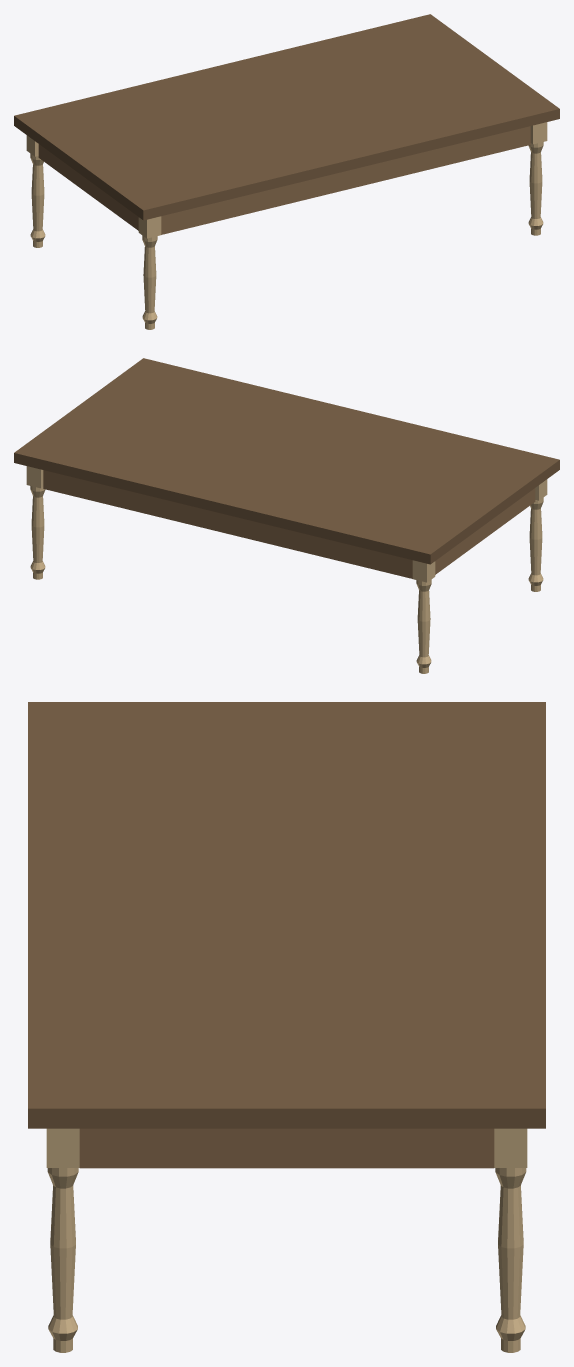
File: BIB-COF-long.glb
3 views of the same model, one above another, from view 1: azimuth 30°, elevation 25°; view 2: azimuth 150°, elevation 25°; view 3: azimuth 270°, elevation 25° (orthographic). The views are drawn at different scales.
Visible parts, largest first — view 1: top:pbr, apron-f:pbr, leg-fl:pbr, apron-l:pbr, leg-fr:pbr, leg-bl:pbr; view 2: top:pbr, apron-b:pbr, leg-bl:pbr, apron-l:pbr, leg-br:pbr, leg-fl:pbr; view 3: top:pbr, apron-r:pbr, leg-fr:pbr, leg-br:pbr.
Boxes of the visible parts, box(x1,y1,x2,y2) form: top:pbr: box(14, 14, 559, 220); apron-f:pbr: box(161, 126, 530, 234); leg-fl:pbr: box(138, 216, 161, 329); apron-l:pbr: box(38, 144, 138, 230); leg-fr:pbr: box(528, 122, 547, 235); leg-bl:pbr: box(26, 135, 45, 247); top:pbr: box(14, 358, 559, 564); apron-b:pbr: box(43, 470, 412, 578); leg-bl:pbr: box(412, 560, 435, 673); apron-l:pbr: box(435, 488, 535, 574); leg-br:pbr: box(26, 466, 45, 579); leg-fl:pbr: box(528, 479, 547, 591); top:pbr: box(28, 702, 545, 1128); apron-r:pbr: box(79, 1128, 494, 1168); leg-fr:pbr: box(46, 1128, 79, 1352); leg-br:pbr: box(494, 1128, 527, 1352).
Bounding box in the file's own units: 1.3 × 0.38 × 0.7.
